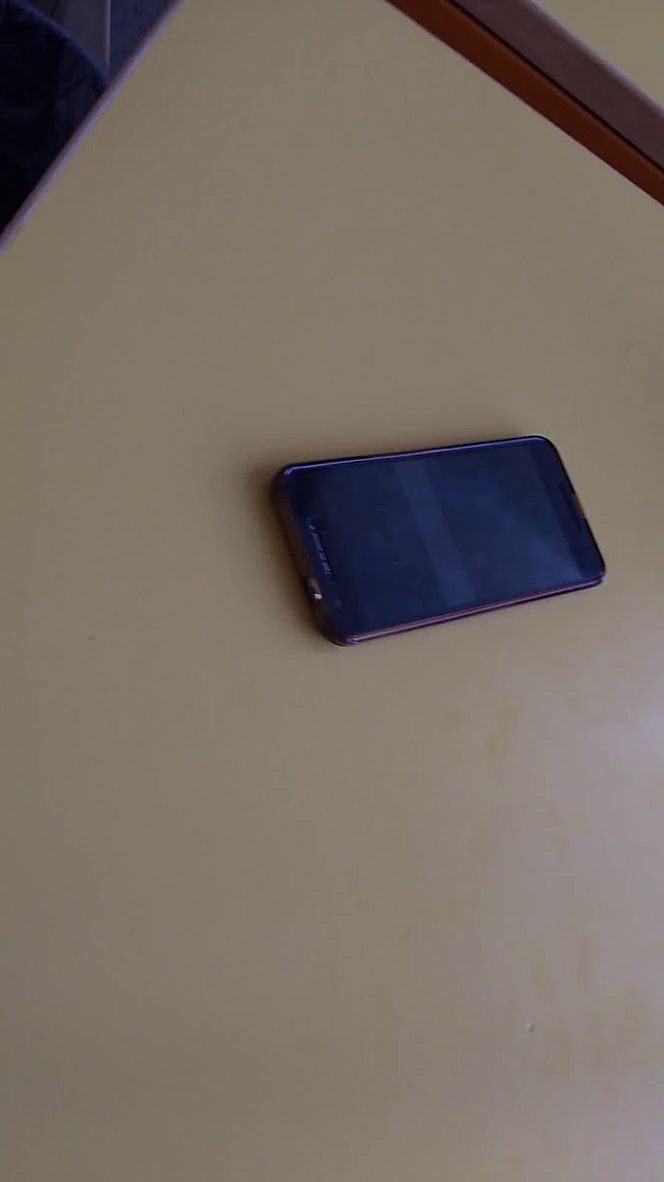phone: (257, 418, 619, 673)
